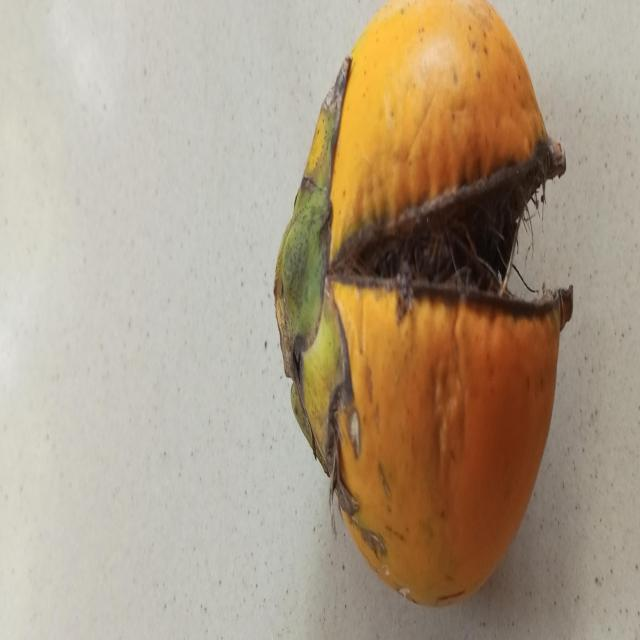damaged: (274, 0, 573, 605)
